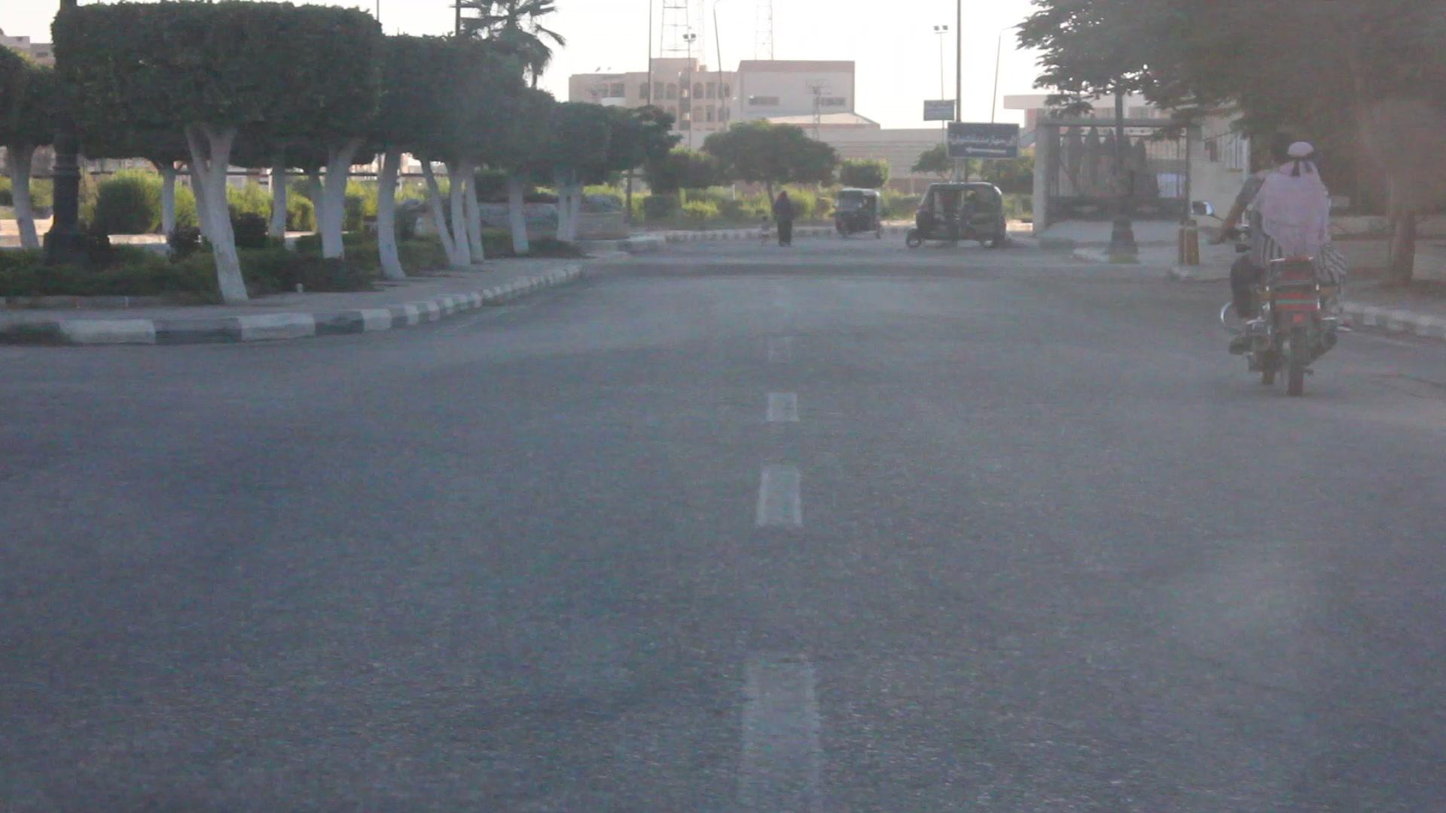Bump: (578, 262, 1145, 282)
